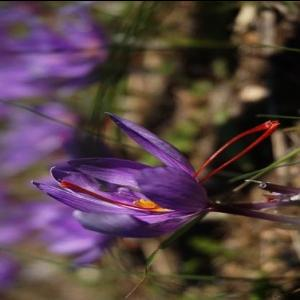Saffron: (30, 112, 222, 240)
